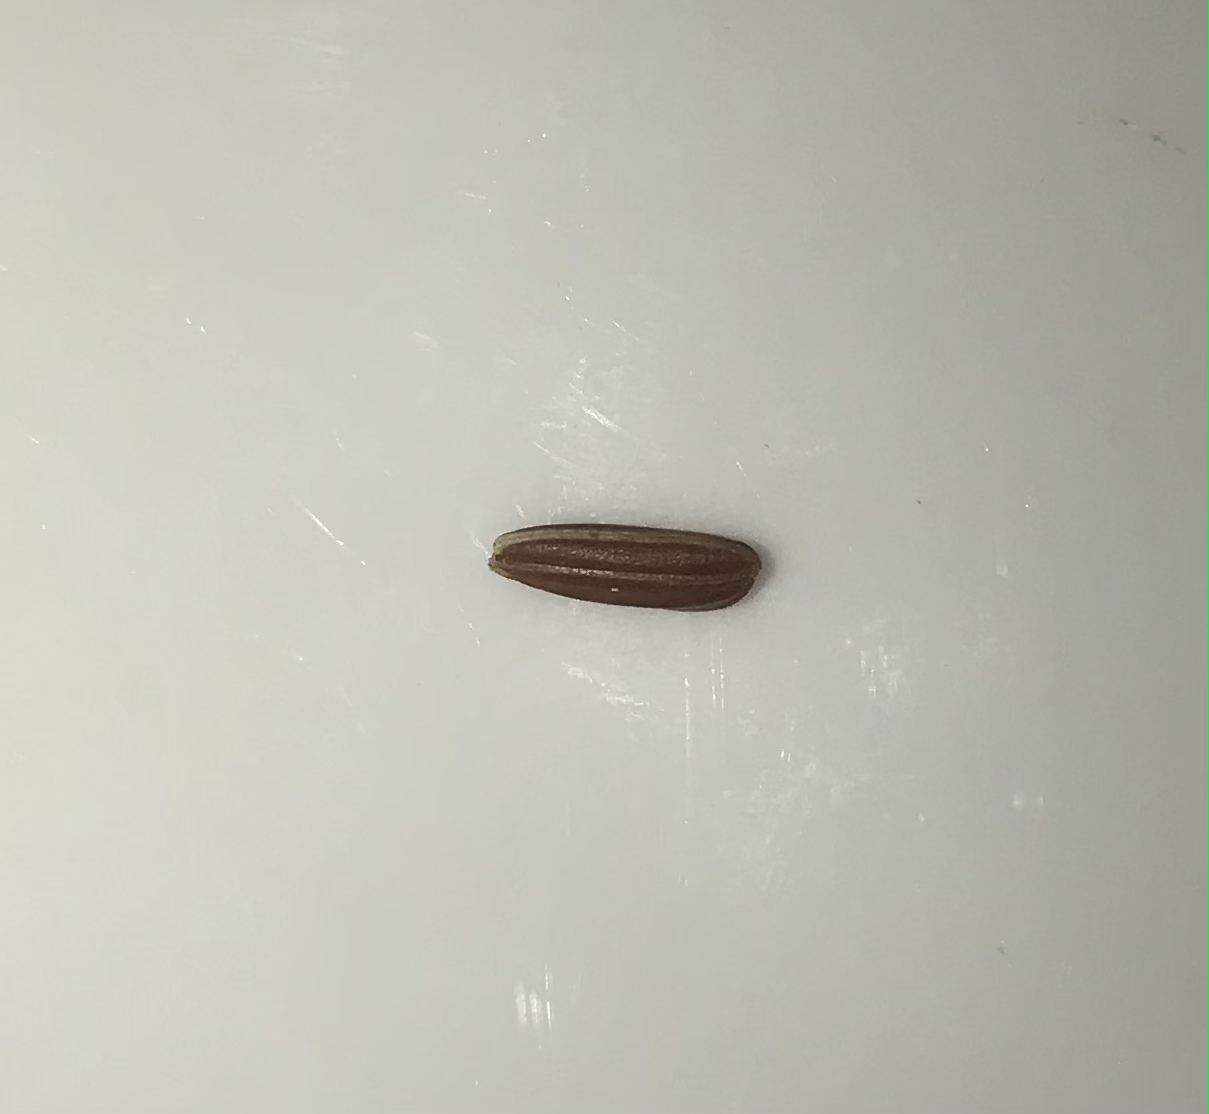Gao Lut Do: (483, 509, 772, 631)
